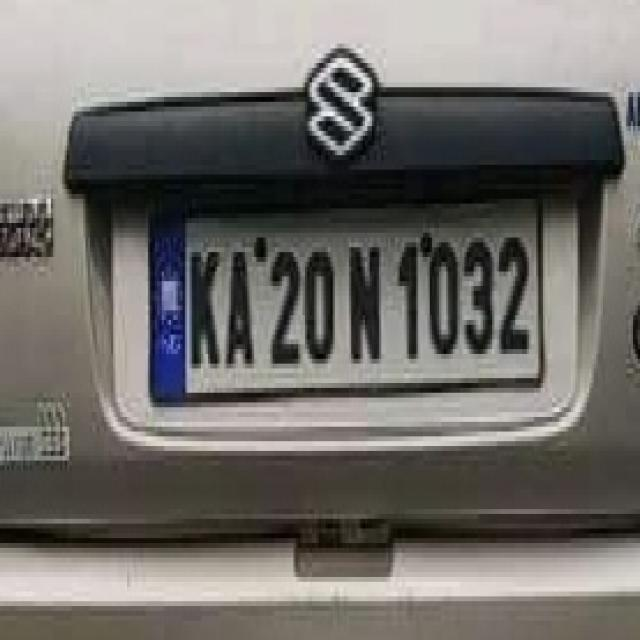0: (426, 228, 461, 374), (302, 239, 338, 371)
1: (397, 233, 421, 376)
3: (461, 230, 495, 370)
A: (223, 240, 255, 381)
K: (185, 237, 221, 378)
N: (343, 217, 386, 386)
